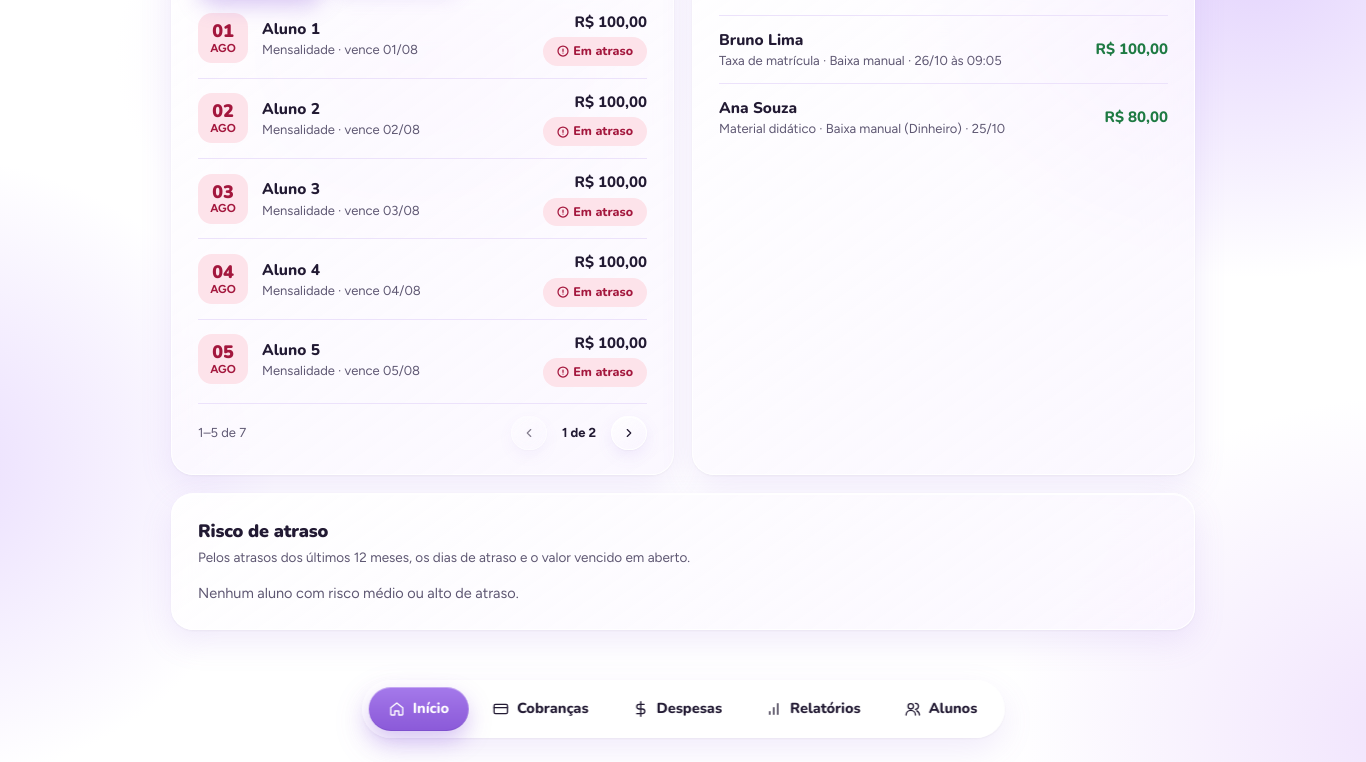
Scenario: Início do financeiro › a aba de atraso avisa quando o backend mandou só as mais antigas e pagina de 5 em 5
(page scrolled)
Expected: the text "Aluno 5" is shown, [262,339,320,360]
Expected: the text "Aluno 6" is not shown
Click the button named "Próxima página": (629, 433) [611,416,647,450]
(page scrolled)
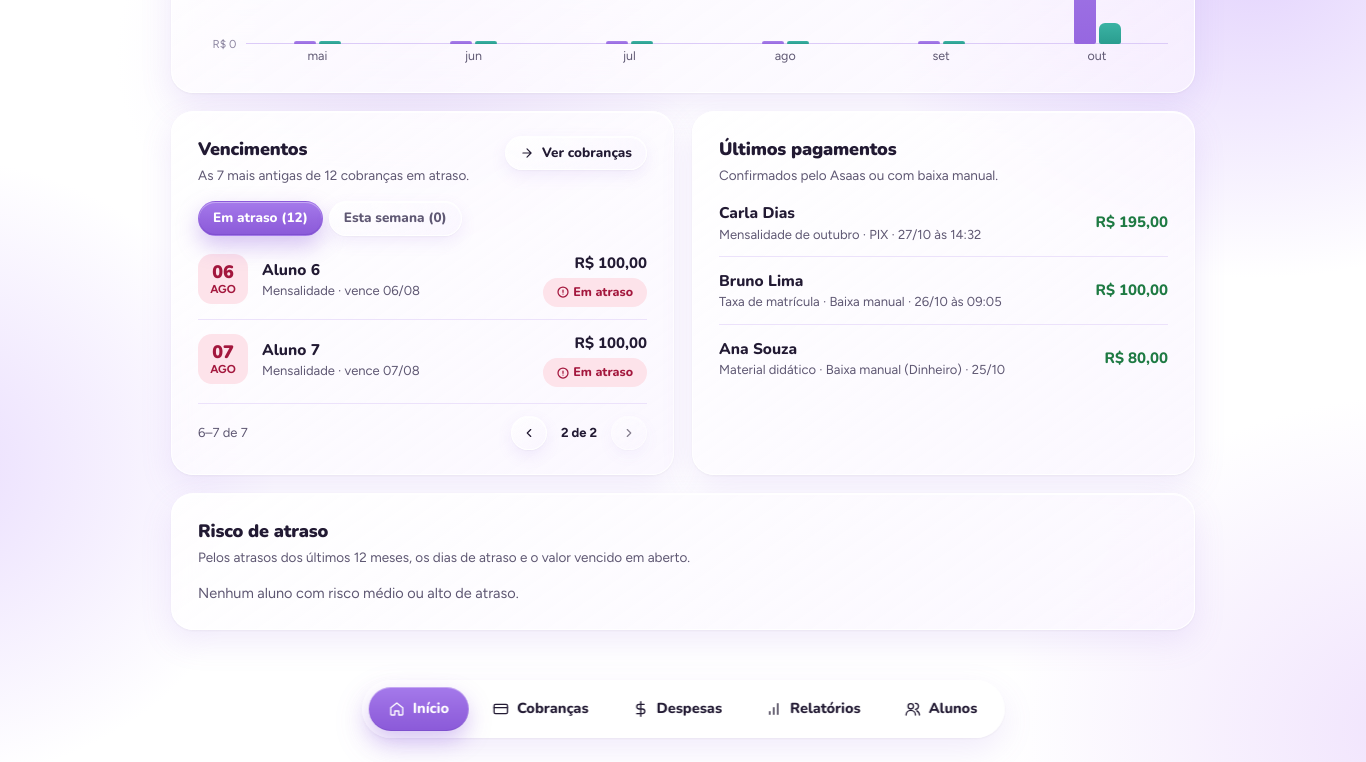
Expected: the text "Aluno 6" is shown, [262,259,320,280]
Expected: the text "Aluno 1" is gone
